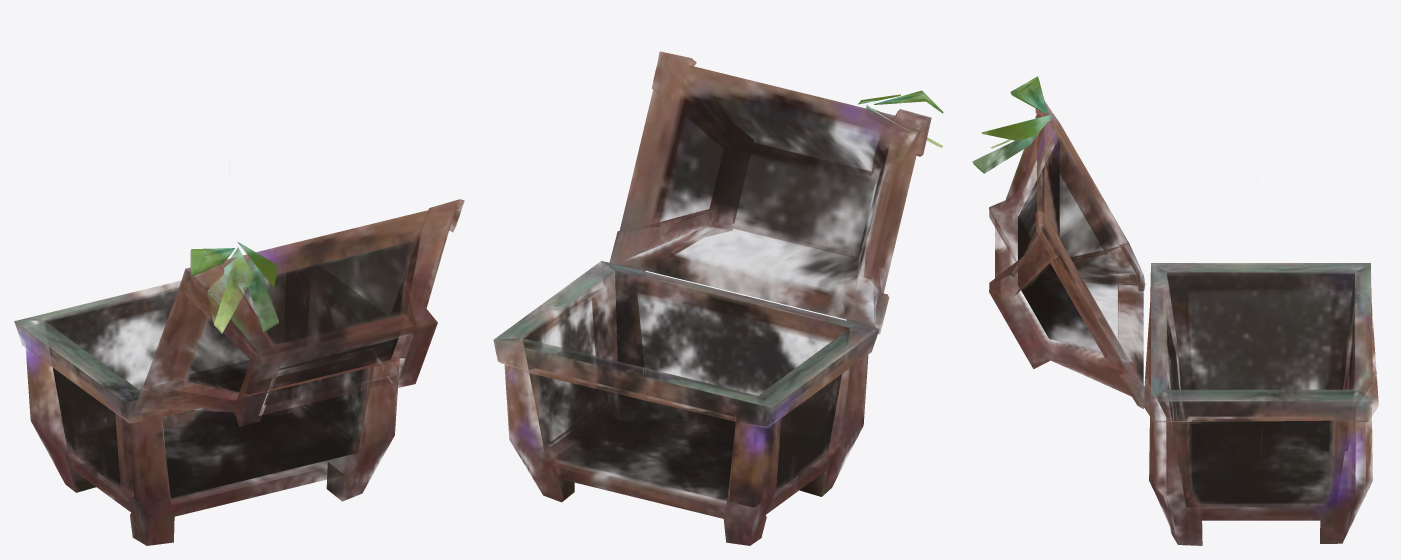
Rendered from PRP_Chest_Gold_lod.glb.
The picture shows the model from 3 angles, left to right: view 1: azimuth 30°, elevation 25°; view 2: azimuth 150°, elevation 25°; view 3: azimuth 270°, elevation 25°; orthographic projection. The views are drawn at different scales.
Visible parts, largest first — view 1: polySurface40_lambert1_0; view 2: polySurface40_lambert1_0; view 3: polySurface40_lambert1_0.
Boxes of the visible parts, bbox=[...] form: polySurface40_lambert1_0: bbox=[14, 199, 464, 545]; polySurface40_lambert1_0: bbox=[493, 51, 943, 545]; polySurface40_lambert1_0: bbox=[972, 76, 1378, 545].
Size of the model in its own units: 1.46 by 1.93 by 1.52.
Materials: 1 (1 with a texture image).
